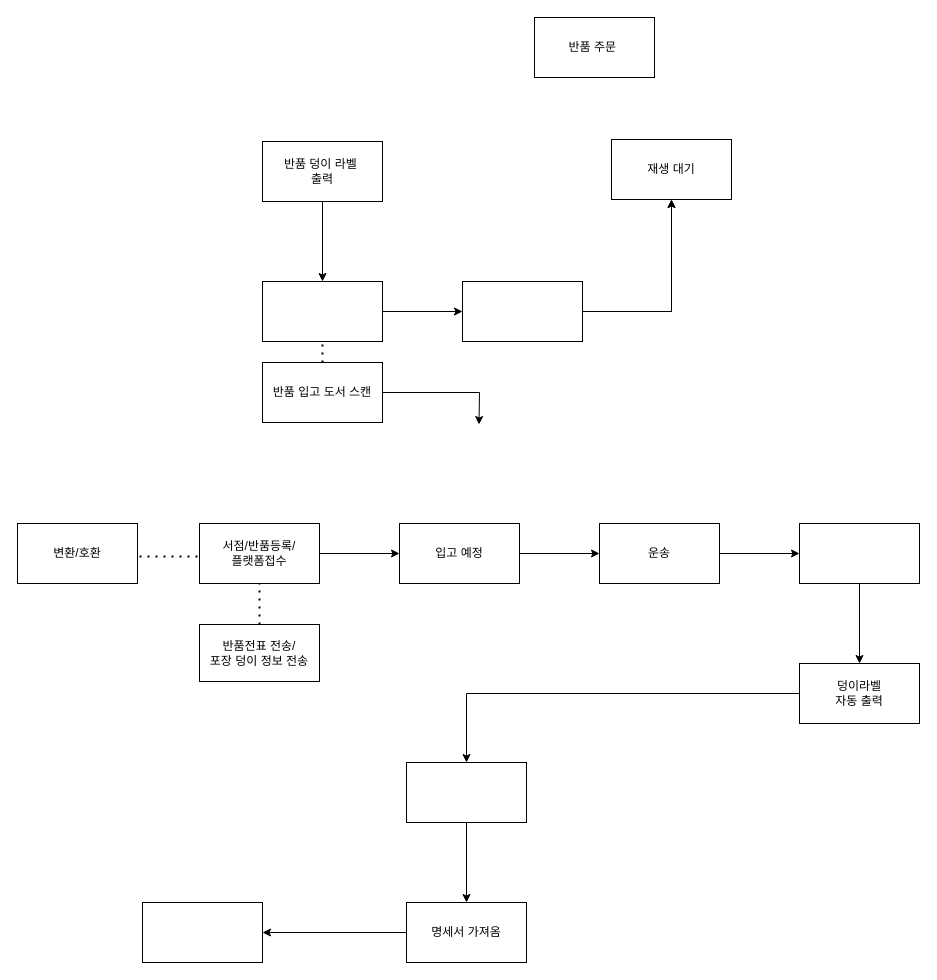
The diagram is 937 pixels wide and 980 high, and some of its shapes have lost their labels. Here are the shapes that lost their labels. From the top down, the centre of each, then its label:
the point at 322,311: 반품 입고 검수 스캔
the point at 522,311: 팀별 분류
the point at 859,553: 도착 인수
the point at 466,792: 전표 스캔
the point at 202,932: 도서 스캔 검수
